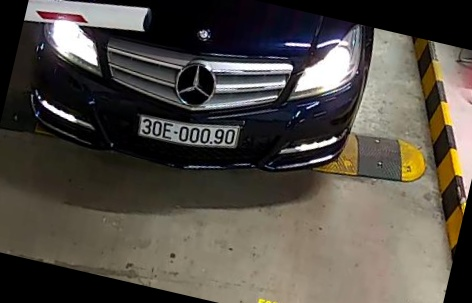plate: (133, 107, 242, 164)
